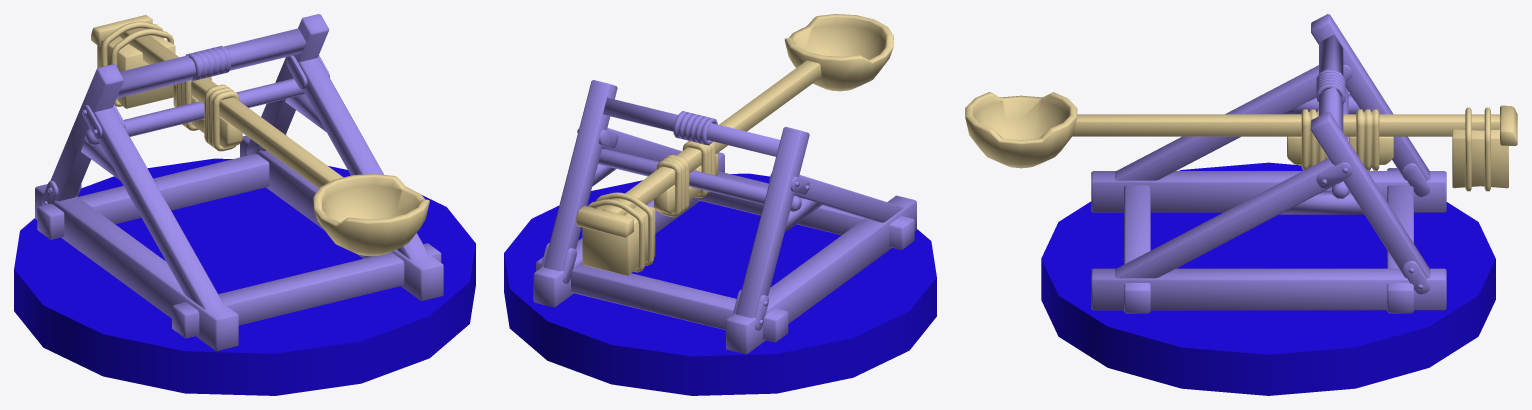
Rendered from katapultaLV1.fbx.
3 views of the same model, side by side, from view 1: azimuth 30°, elevation 25°; view 2: azimuth 150°, elevation 25°; view 3: azimuth 270°, elevation 25° (orthographic). The views are drawn at different scales.
Visible parts, largest first — view 1: Cube.002, Cube.029, Plane; view 2: Cube.002, Cube.029, Plane; view 3: Cube.002, Cube.029, Plane.
Boxes of the visible parts, bbox=[...] form: Cube.002: bbox=[14, 158, 475, 395]; Cube.029: bbox=[35, 14, 443, 350]; Plane: bbox=[91, 15, 429, 256]; Cube.002: bbox=[504, 173, 936, 395]; Cube.029: bbox=[533, 80, 916, 354]; Plane: bbox=[576, 14, 893, 275]; Cube.002: bbox=[1041, 162, 1495, 395]; Cube.029: bbox=[1091, 14, 1446, 313]; Plane: bbox=[965, 92, 1517, 191].
Bounding box in the file's own units: 162 × 90.64 × 197.
